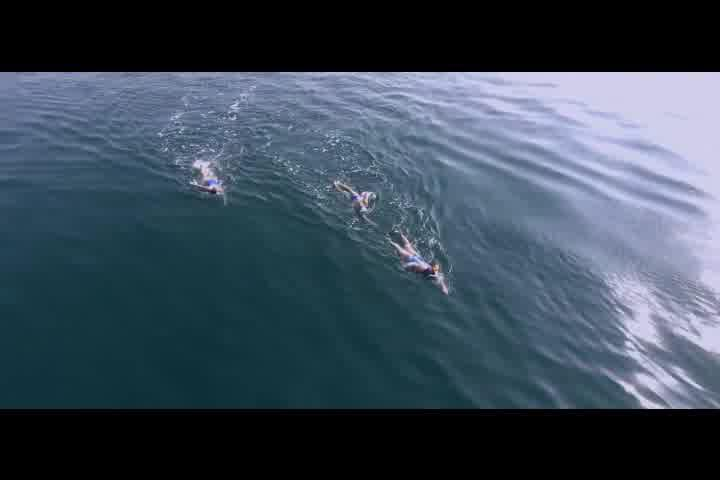swimmer: (392, 234, 454, 299), (332, 182, 379, 226), (188, 158, 230, 201)
